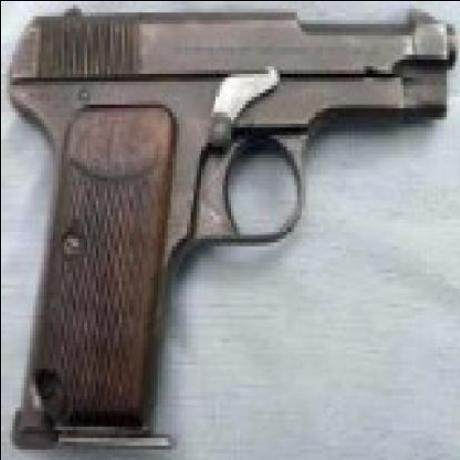weapon: (9, 4, 455, 450)
